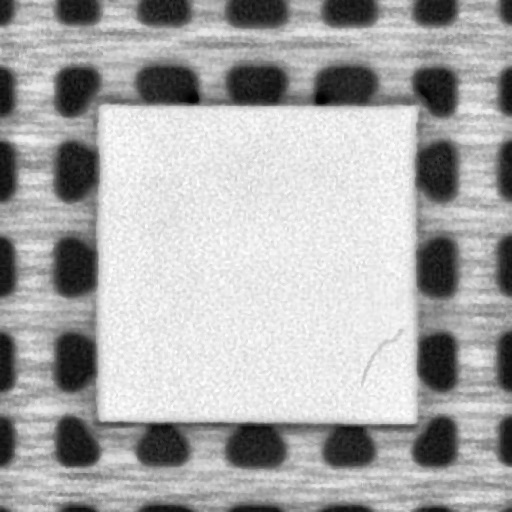DIE_CRACK: (358, 325, 404, 388)
